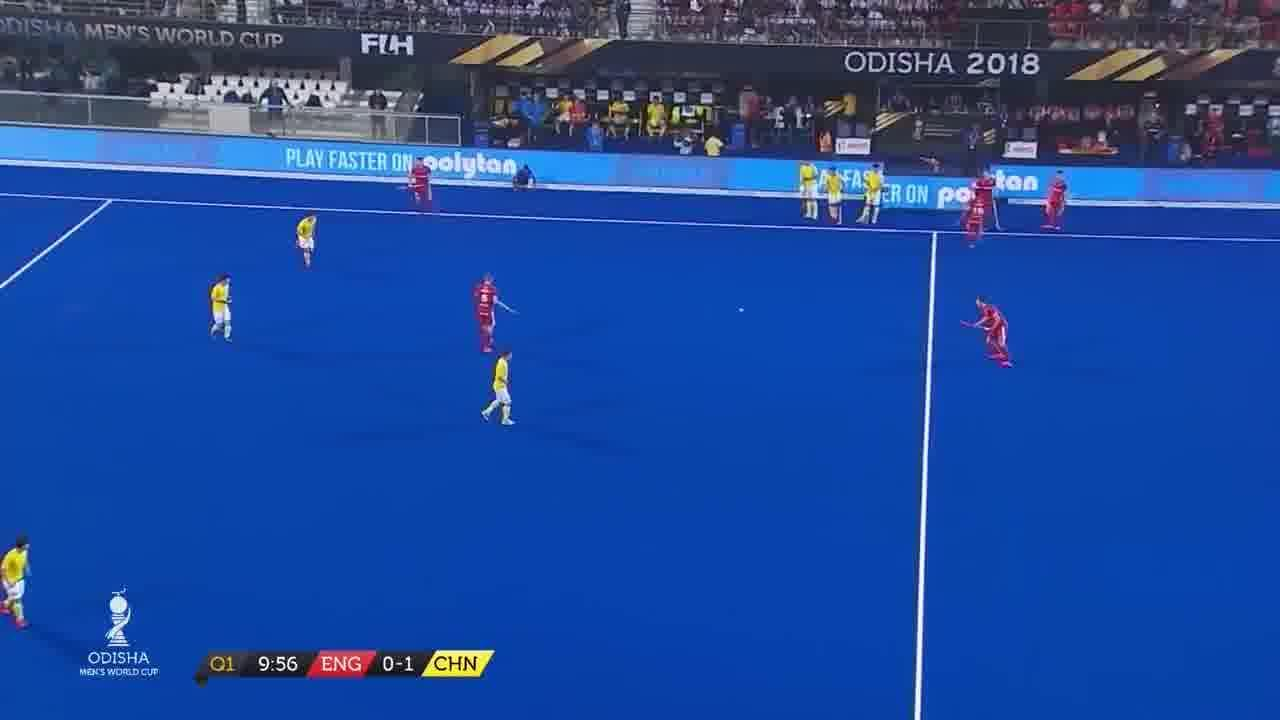ball: (736, 304, 748, 318)
